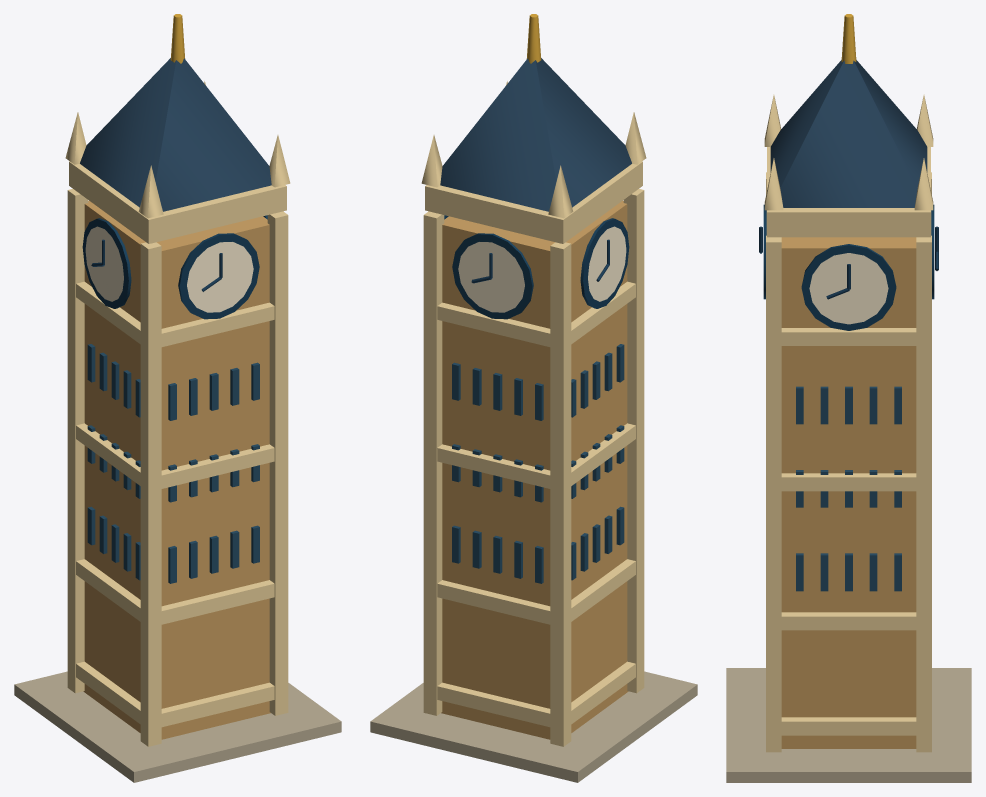
Rendered from elizabeth-tower.glb.
3 renders of one model, left to right at view 1: azimuth 30°, elevation 25°; view 2: azimuth 150°, elevation 25°; view 3: azimuth 270°, elevation 25°, orthographic. The views are drawn at different scales.
Visible parts, largest first — view 1: body_C8B48A, body_E3D2AC, roof_4D5D56, base_B8B49D, detail, clock_F1E6CC, clock_43514C, roof_E3D2AC, roof_AF9660; view 2: body_C8B48A, body_E3D2AC, roof_4D5D56, base_B8B49D, detail, clock_F1E6CC, clock_43514C, roof_E3D2AC, roof_AF9660; view 3: body_C8B48A, body_E3D2AC, roof_4D5D56, base_B8B49D, clock_F1E6CC, detail, clock_43514C, roof_E3D2AC, roof_AF9660, clock_434A42.
Boxes of the visible parts, left/top/right/bottom form: body_C8B48A: left=83, top=200, right=270, bottom=739; body_E3D2AC: left=67, top=161, right=288, bottom=746; roof_4D5D56: left=80, top=58, right=271, bottom=211; base_B8B49D: left=14, top=671, right=341, bottom=782; detail: left=87, top=344, right=259, bottom=583; clock_F1E6CC: left=85, top=226, right=253, bottom=312; clock_43514C: left=82, top=215, right=267, bottom=319; roof_E3D2AC: left=65, top=81, right=290, bottom=218; roof_AF9660: left=170, top=14, right=185, bottom=63; body_C8B48A: left=441, top=200, right=628, bottom=739; body_E3D2AC: left=423, top=161, right=644, bottom=746; roof_4D5D56: left=440, top=58, right=631, bottom=211; base_B8B49D: left=370, top=671, right=697, bottom=782; detail: left=452, top=344, right=624, bottom=583; clock_F1E6CC: left=458, top=226, right=626, bottom=312; clock_43514C: left=444, top=215, right=629, bottom=319; roof_E3D2AC: left=421, top=81, right=646, bottom=218; roof_AF9660: left=526, top=14, right=541, bottom=63; body_C8B48A: left=781, top=237, right=916, bottom=748; body_E3D2AC: left=766, top=147, right=931, bottom=752; roof_4D5D56: left=770, top=60, right=927, bottom=207; base_B8B49D: left=726, top=668, right=971, bottom=782; clock_F1E6CC: left=809, top=253, right=888, bottom=324; detail: left=796, top=386, right=901, bottom=591; clock_43514C: left=763, top=204, right=934, bottom=330; roof_E3D2AC: left=764, top=94, right=933, bottom=210; roof_AF9660: left=841, top=14, right=856, bottom=63; clock_434A42: left=759, top=226, right=938, bottom=299.
Size of the model in its own units: 1 by 3.22 by 1.
